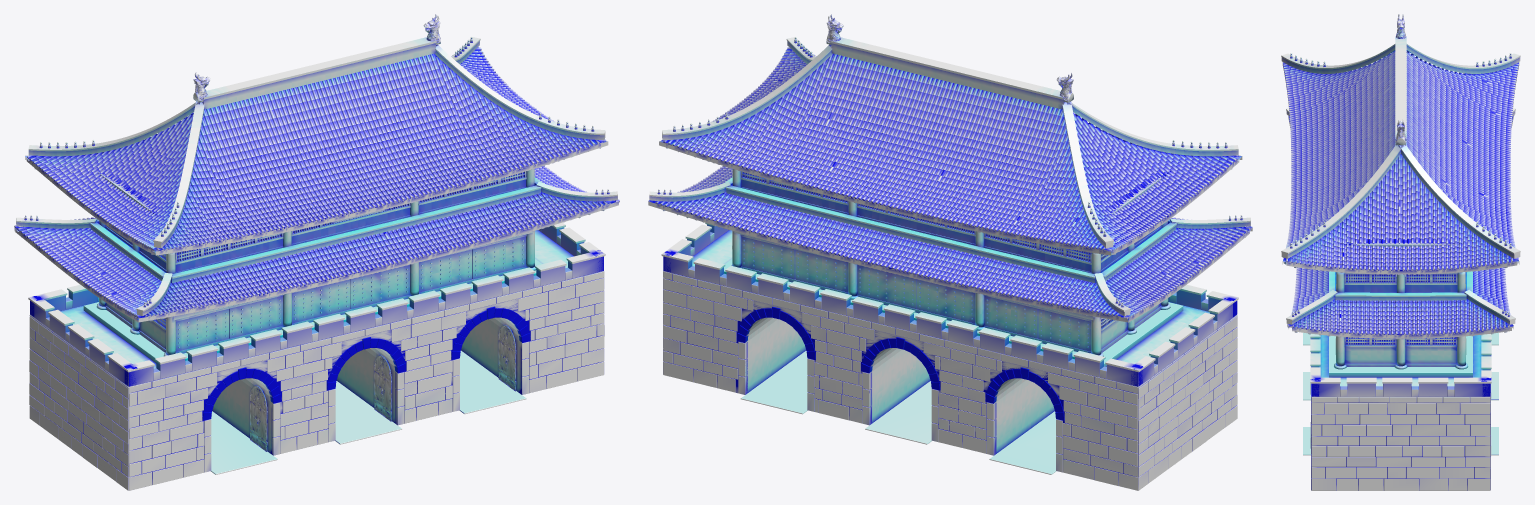
Rendered from NMJ_Gwanghwamun.fbx.
3 views of the same model, side by side, from view 1: azimuth 30°, elevation 25°; view 2: azimuth 150°, elevation 25°; view 3: azimuth 270°, elevation 25° (orthographic). The views are drawn at different scales.
Parts seen in each view (by area): view 1: 광화문_마름돌, 수키와_광화문_위, 암키와_광화문_위, 수키와_광화문_아래, 광화문_석축, 암키와_광화문_아래, 광화문_판문, 광화문_붉은칠, 광화문_마루기와_위, 광화문_평고대, 광화문_여장갓, 광화문_마루_위 (+9 smaller); view 2: 광화문_마름돌, 수키와_광화문_위, 암키와_광화문_위, 광화문_석축, 수키와_광화문_아래, 암키와_광화문_아래, 광화문_판문, 광화문_붉은칠, 광화문_마루기와_위, 광화문_평고대, 광화문_여장갓, 광화문_마루_위 (+8 smaller); view 3: 수키와_광화문_위, 광화문_마름돌, 암키와_광화문_위, 수키와_광화문_아래, 광화문_마루기와_위, 암키와_광화문_아래, 광화문_붉은칠, 광화문_판벽, 광화문_석축, 광화문_마루_위, 광화문_여장갓, 광화문_평고대 (+7 smaller).
Boxes of the visible parts, x1=… form: 광화문_마름돌: x1=29, y1=226, x2=604, y2=490; 수키와_광화문_위: x1=27, y1=48, x2=605, y2=250; 암키와_광화문_위: x1=28, y1=47, x2=602, y2=250; 수키와_광화문_아래: x1=14, y1=166, x2=619, y2=316; 광화문_석축: x1=30, y1=230, x2=603, y2=490; 암키와_광화문_아래: x1=15, y1=166, x2=615, y2=317; 광화문_판문: x1=175, y1=236, x2=525, y2=351; 광화문_붉은칠: x1=99, y1=168, x2=534, y2=355; 광화문_마루기와_위: x1=28, y1=36, x2=605, y2=243; 광화문_평고대: x1=14, y1=141, x2=618, y2=322; 광화문_여장갓: x1=28, y1=222, x2=605, y2=372; 광화문_마루_위: x1=28, y1=41, x2=605, y2=248; 광화문_마름돌: x1=663, y1=224, x2=1237, y2=490; 수키와_광화문_위: x1=663, y1=47, x2=1238, y2=251; 암키와_광화문_위: x1=661, y1=49, x2=1238, y2=250; 광화문_석축: x1=663, y1=230, x2=1236, y2=490; 수키와_광화문_아래: x1=656, y1=165, x2=1250, y2=318; 암키와_광화문_아래: x1=648, y1=168, x2=1251, y2=317; 광화문_판문: x1=741, y1=236, x2=1091, y2=351; 광화문_붉은칠: x1=732, y1=169, x2=1168, y2=355; 광화문_마루기와_위: x1=662, y1=37, x2=1238, y2=243; 광화문_평고대: x1=648, y1=140, x2=1252, y2=322; 광화문_여장갓: x1=661, y1=223, x2=1238, y2=372; 광화문_마루_위: x1=662, y1=41, x2=1238, y2=248; 수키와_광화문_위: x1=1283, y1=51, x2=1518, y2=269; 광화문_마름돌: x1=1303, y1=332, x2=1498, y2=490; 암키와_광화문_위: x1=1283, y1=51, x2=1518, y2=269; 수키와_광화문_아래: x1=1287, y1=115, x2=1514, y2=333; 광화문_마루기와_위: x1=1281, y1=36, x2=1520, y2=253; 암키와_광화문_아래: x1=1288, y1=116, x2=1513, y2=334; 광화문_붉은칠: x1=1335, y1=272, x2=1466, y2=366; 광화문_판벽: x1=1344, y1=274, x2=1457, y2=363; 광화문_석축: x1=1311, y1=335, x2=1489, y2=490; 광화문_마루_위: x1=1281, y1=45, x2=1520, y2=258; 광화문_여장갓: x1=1310, y1=334, x2=1491, y2=383; 광화문_평고대: x1=1282, y1=62, x2=1519, y2=338.
Size of the model in its own units: 34.82 by 24.45 by 16.59.
